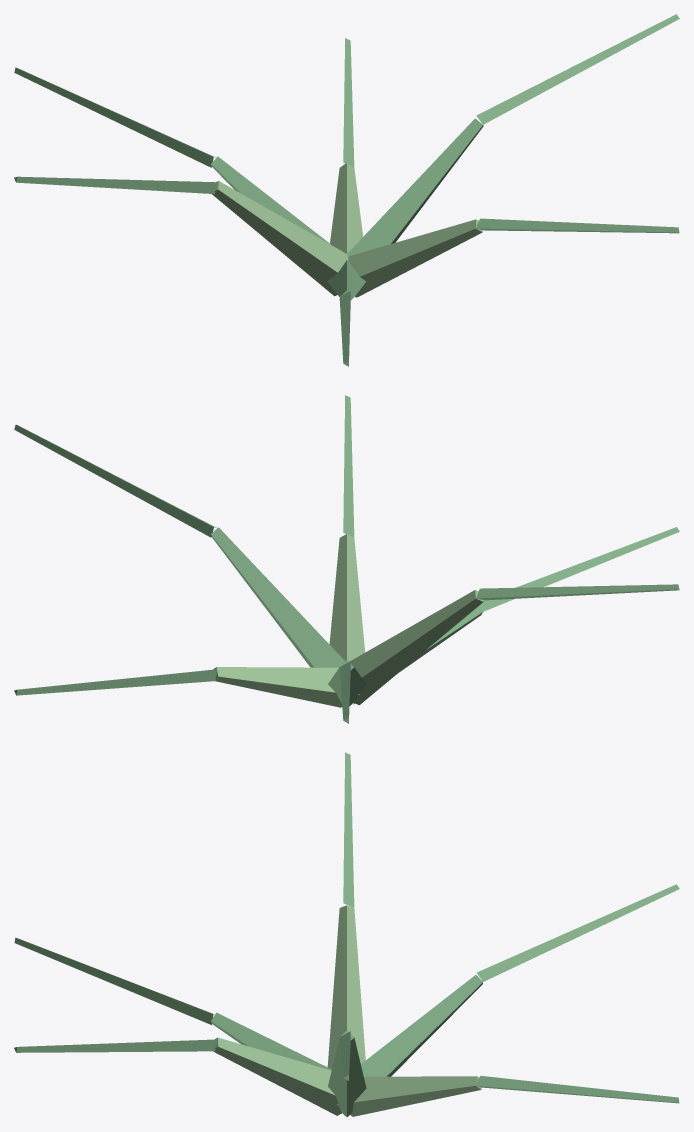
The model's file is fern_v01.glb.
The picture shows the model from 3 angles, top to bottom: view 1: azimuth 30°, elevation 25°; view 2: azimuth 150°, elevation 25°; view 3: azimuth 270°, elevation 25°; orthographic projection.
Visible parts, largest first — view 1: lod0; view 2: lod0; view 3: lod0.
Part boxes in pixels (x1,y1,x2,y2): lod0: (14, 14, 679, 366); lod0: (14, 395, 679, 723); lod0: (14, 752, 679, 1116).
Size of what is drawn, in the model's own units: 1.24 by 0.3612 by 1.08.
